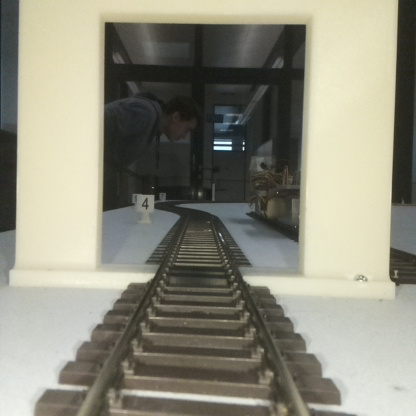white-stop-4: (137, 194, 154, 222)
